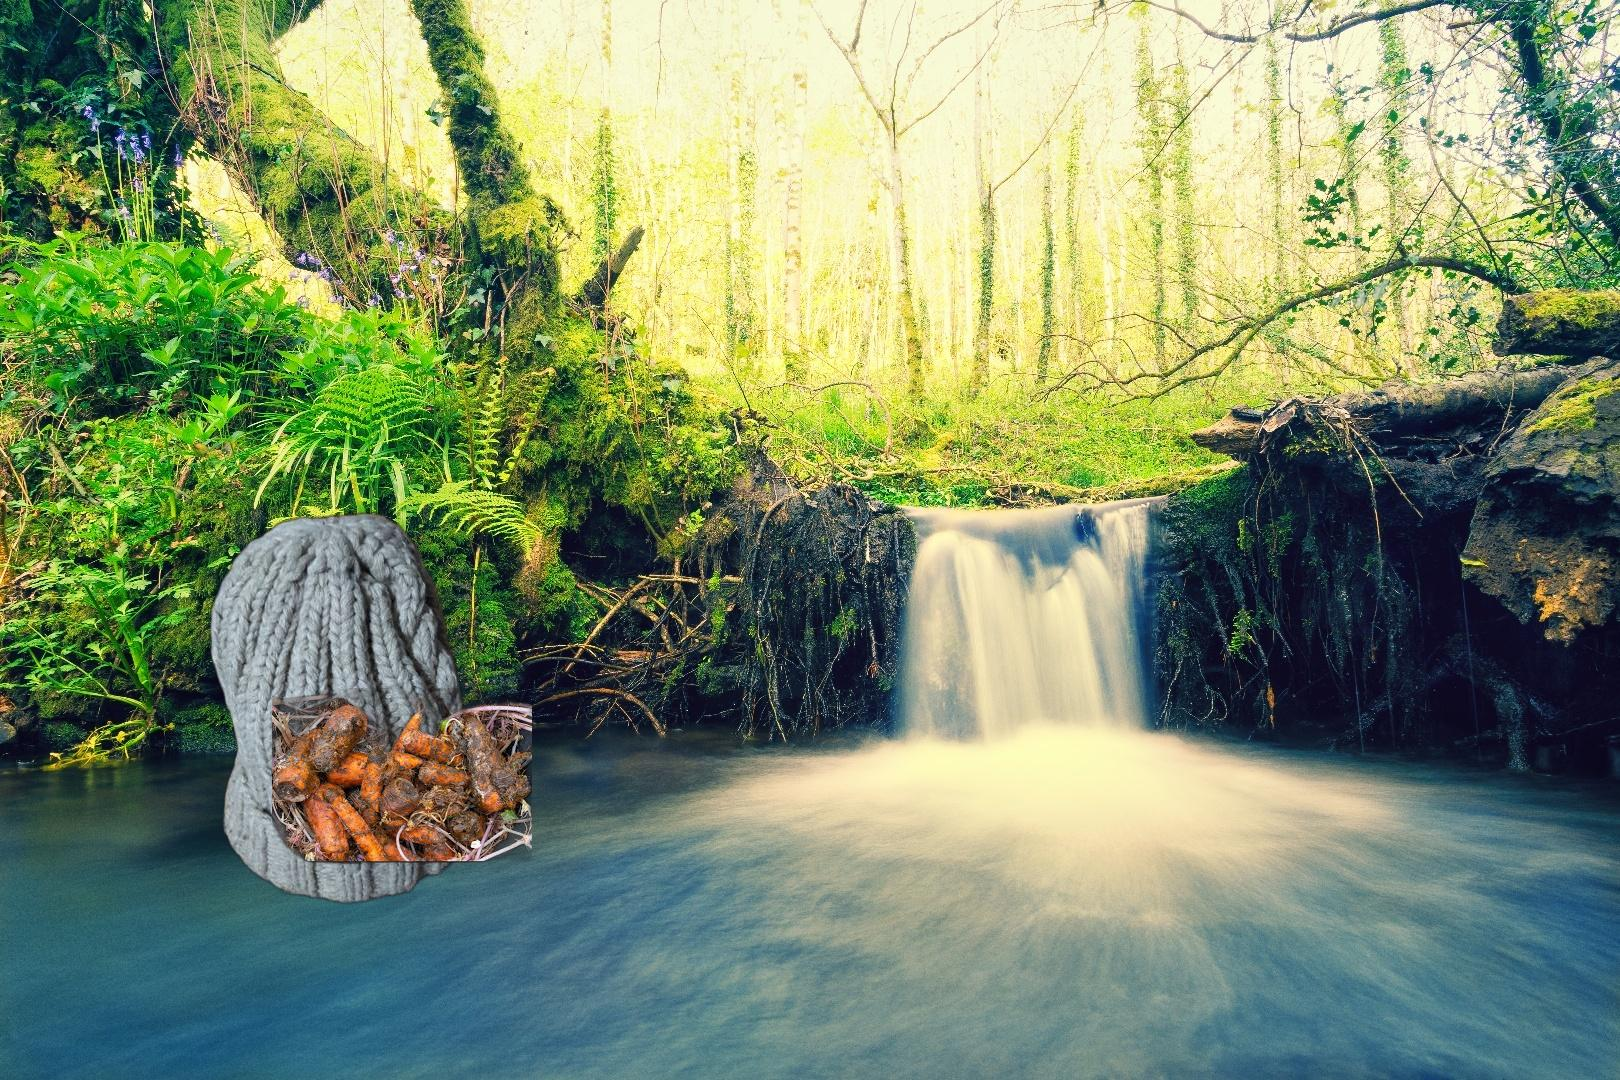biological: (272, 688, 532, 865)
clothes: (206, 509, 504, 908)
